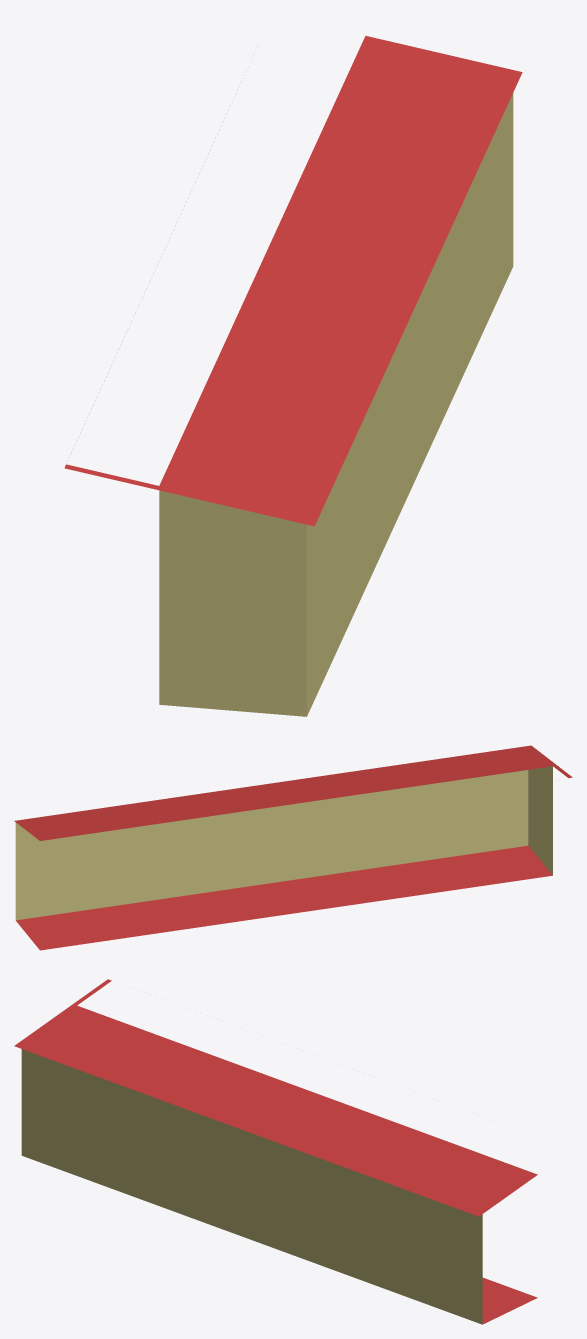
3 renders of one model, top to bottom at view 1: azimuth 30°, elevation 25°; view 2: azimuth 150°, elevation 25°; view 3: azimuth 270°, elevation 25°, orthographic. The views are drawn at different scales.
Bounding box in the file's own units: 23.65 × 25.82 × 6.68.
